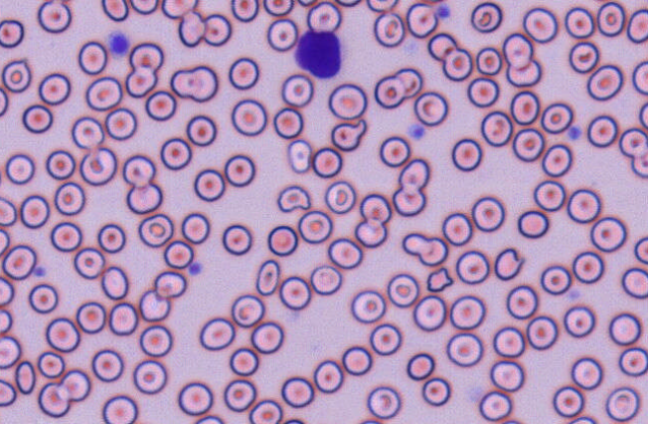MONO: (295, 29, 344, 80)
PLT: (110, 33, 129, 55), (407, 122, 426, 141), (32, 265, 48, 279), (189, 261, 202, 275), (438, 4, 451, 18), (570, 126, 581, 139)
RBC: (170, 65, 218, 102), (79, 146, 117, 185), (328, 83, 367, 120), (230, 98, 267, 136), (586, 64, 623, 101), (589, 216, 627, 252), (85, 75, 122, 111), (522, 6, 558, 43), (449, 294, 485, 330), (446, 332, 483, 367), (413, 90, 448, 126), (412, 294, 446, 331), (45, 317, 80, 352), (566, 188, 601, 223), (132, 359, 167, 394), (605, 386, 640, 421), (2, 244, 36, 280), (137, 213, 173, 247), (350, 289, 386, 323), (177, 381, 213, 415), (471, 196, 505, 232), (297, 209, 332, 243), (366, 385, 401, 419), (199, 317, 235, 350), (405, 2, 438, 38), (125, 182, 162, 214), (480, 110, 512, 147), (455, 250, 489, 284), (36, 0, 71, 33), (37, 382, 70, 417), (278, 275, 311, 310), (505, 284, 538, 319), (386, 273, 419, 307), (250, 321, 284, 354), (223, 378, 256, 412), (231, 294, 265, 327), (91, 348, 124, 382), (281, 73, 314, 107), (489, 360, 524, 392), (327, 237, 362, 269), (512, 127, 544, 162), (526, 315, 558, 350), (373, 12, 405, 47), (306, 1, 341, 33), (502, 32, 533, 68), (139, 324, 172, 357), (122, 154, 155, 187), (159, 137, 192, 170), (71, 116, 104, 149), (104, 107, 137, 140), (369, 322, 402, 355), (570, 356, 603, 389), (540, 101, 573, 134), (608, 312, 641, 345), (53, 181, 85, 215), (324, 180, 356, 214), (280, 376, 314, 408), (572, 250, 604, 284), (398, 157, 429, 192), (193, 168, 225, 201), (73, 246, 105, 279), (266, 18, 298, 51), (38, 72, 70, 105), (563, 304, 595, 337), (586, 114, 618, 147), (19, 194, 50, 228), (441, 212, 472, 246), (451, 137, 482, 171), (478, 390, 512, 421), (228, 56, 259, 90), (541, 143, 572, 177), (224, 153, 255, 187), (77, 40, 107, 75), (509, 90, 539, 125), (505, 58, 541, 87), (102, 394, 138, 423), (596, 1, 625, 37), (177, 10, 205, 47), (125, 66, 157, 98), (59, 369, 91, 401), (185, 114, 217, 146), (533, 179, 565, 211), (552, 385, 584, 417), (470, 1, 502, 33), (374, 75, 405, 108), (309, 264, 342, 295), (466, 76, 499, 107), (49, 221, 82, 252), (492, 326, 525, 357), (129, 42, 163, 72), (442, 47, 472, 81), (1, 58, 31, 92), (313, 359, 343, 393), (359, 193, 391, 224), (144, 90, 176, 121), (379, 135, 410, 167), (311, 146, 342, 178), (267, 224, 298, 256), (75, 301, 106, 333), (221, 223, 252, 255), (568, 41, 599, 73), (392, 186, 425, 216), (354, 218, 387, 248), (108, 302, 138, 335), (100, 265, 128, 300), (540, 264, 571, 295), (21, 103, 53, 133), (273, 107, 303, 139), (564, 6, 594, 38), (202, 13, 231, 46), (153, 270, 187, 298), (417, 236, 448, 266), (163, 239, 194, 269), (45, 149, 75, 180), (5, 153, 35, 184), (341, 345, 372, 375), (181, 212, 210, 244), (517, 209, 549, 238), (255, 259, 280, 295), (28, 283, 58, 313), (618, 127, 647, 158), (427, 32, 457, 61), (421, 377, 451, 406), (229, 347, 259, 376), (97, 223, 126, 253), (618, 346, 647, 376), (394, 67, 422, 97), (621, 267, 647, 299), (248, 399, 282, 423), (406, 352, 435, 380), (37, 350, 65, 378), (475, 46, 502, 75), (14, 360, 36, 394), (626, 8, 647, 43), (0, 18, 24, 48), (161, 0, 198, 19), (0, 335, 21, 368), (230, 0, 258, 22), (100, 0, 128, 21), (632, 59, 647, 95), (0, 196, 17, 226), (263, 0, 293, 16), (0, 378, 16, 407), (631, 151, 647, 178), (0, 276, 14, 306), (129, 0, 158, 14), (366, 0, 398, 12), (634, 235, 647, 264), (0, 308, 12, 333), (0, 228, 10, 255), (194, 414, 224, 423), (638, 101, 647, 129), (0, 87, 8, 116), (568, 416, 596, 423), (414, 0, 446, 6), (334, 0, 361, 7), (282, 417, 306, 423), (297, 0, 318, 6), (358, 418, 382, 423), (499, 419, 521, 423), (0, 161, 2, 187)
Schistocyte: (331, 119, 369, 151), (277, 184, 312, 212), (495, 247, 525, 279), (140, 291, 170, 321), (287, 140, 313, 173), (425, 267, 454, 292), (400, 231, 429, 253)
